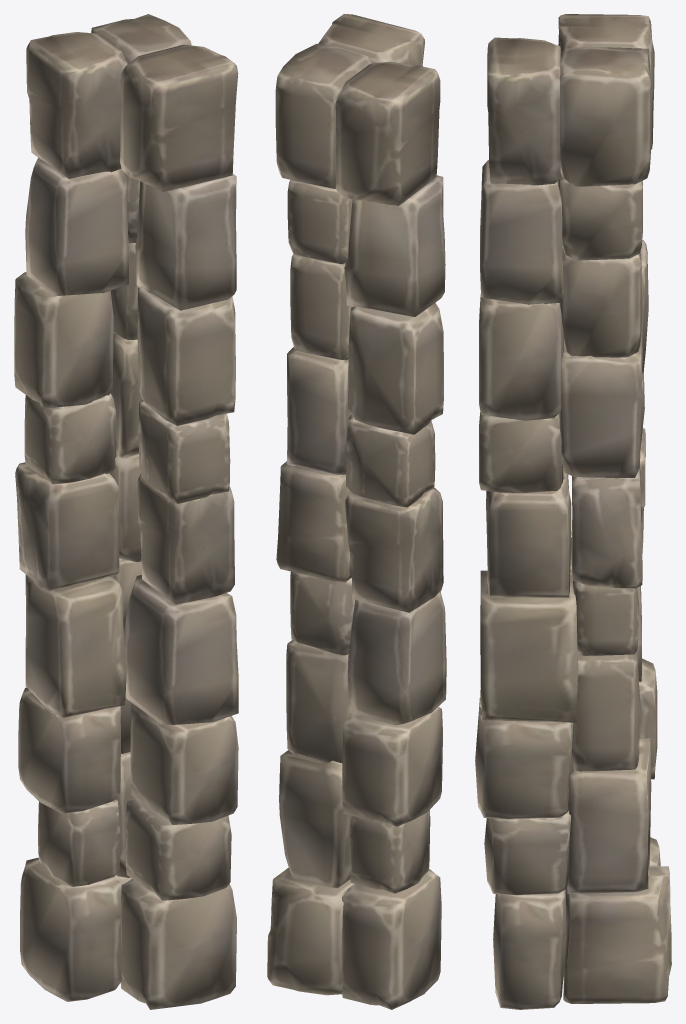
The model's file is corner_exterior_brick.glb.
3 renders of one model, left to right at view 1: azimuth 30°, elevation 25°; view 2: azimuth 150°, elevation 25°; view 3: azimuth 270°, elevation 25°, orthographic. The views are drawn at different scales.
Size of the model in its own units: 0.5307 by 3.02 by 0.5758.
1 material, 1 textured.
